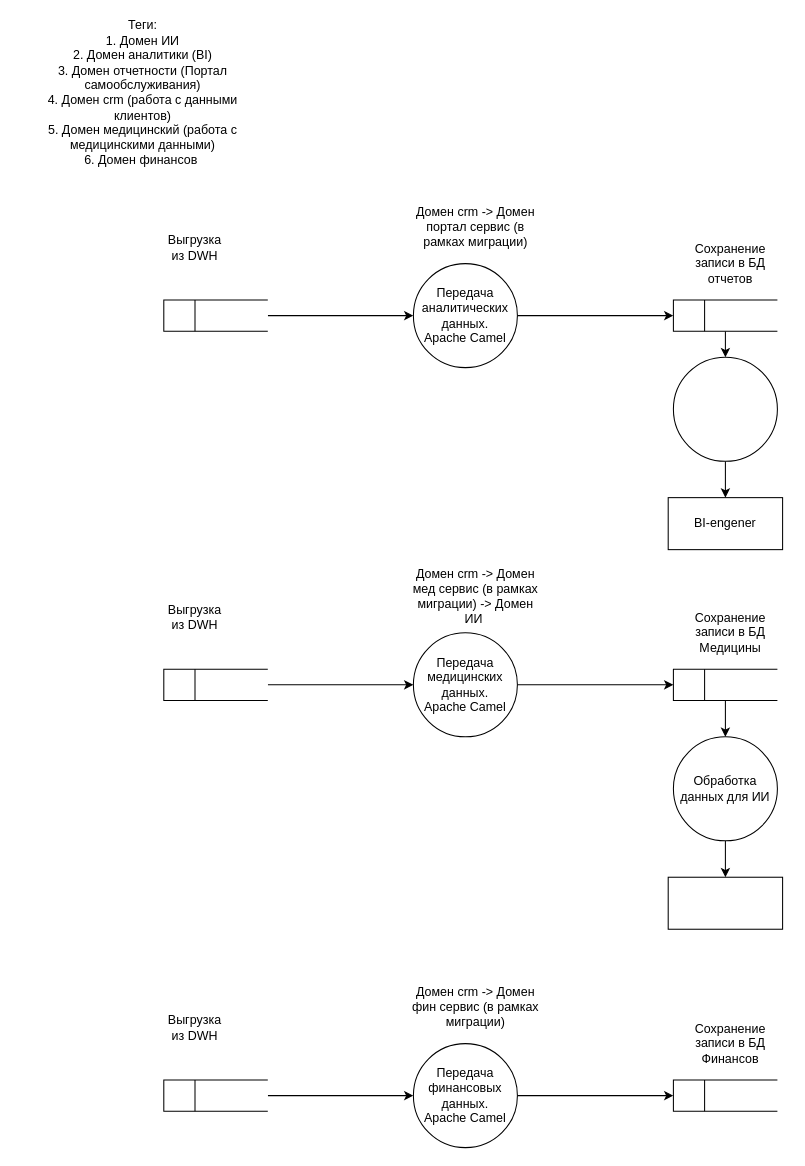
The diagram is 805 pixels wide and 1166 high, and some of its shapes have lost their labels. Each missing label, with the centre of its shape:
Обработка данных для аналитики: point 724,408
Оператор ИИ: point 725,902
